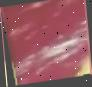scratch: (0, 0, 90, 87)
